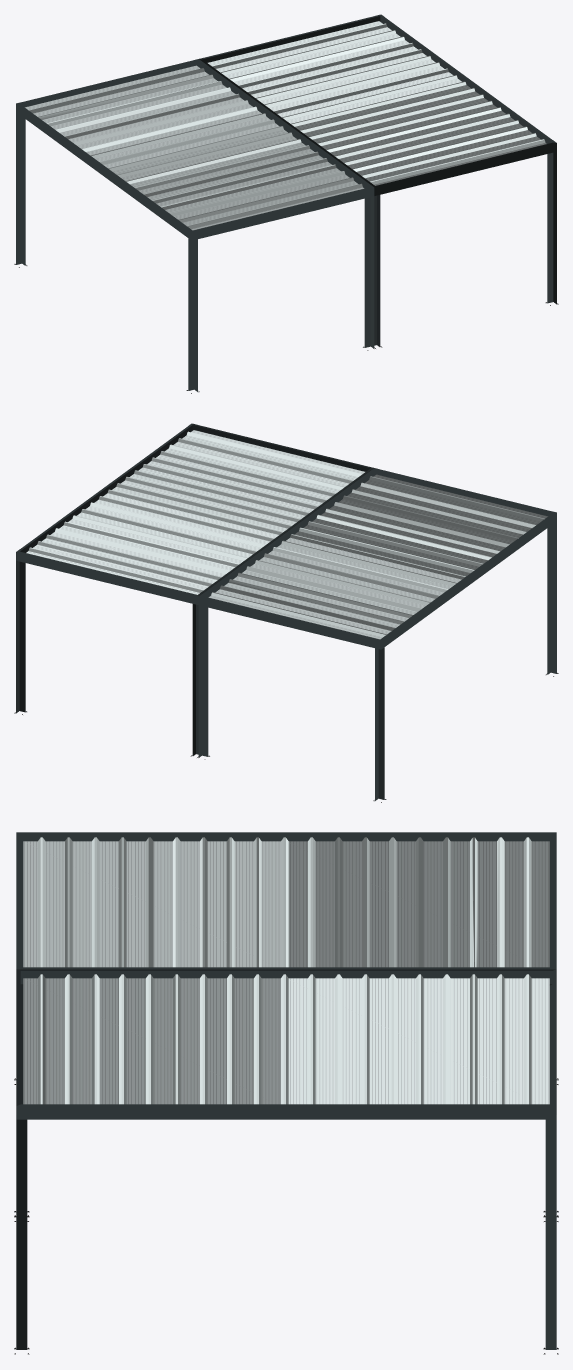
The picture shows the model from 3 angles, top to bottom: view 1: azimuth 30°, elevation 25°; view 2: azimuth 150°, elevation 25°; view 3: azimuth 270°, elevation 25°; orthographic projection. The views are drawn at different scales.
Parts seen in each view (by area): view 1: priximbattable_net_abris_de_voiture_13473_carport_double_alu; view 2: priximbattable_net_abris_de_voiture_13473_carport_double_alu; view 3: priximbattable_net_abris_de_voiture_13473_carport_double_alu.
Boxes of the visible parts, left/top/right/bottom form: priximbattable_net_abris_de_voiture_13473_carport_double_alu: left=14, top=14, right=558, bottom=393; priximbattable_net_abris_de_voiture_13473_carport_double_alu: left=14, top=423, right=558, bottom=802; priximbattable_net_abris_de_voiture_13473_carport_double_alu: left=14, top=832, right=558, bottom=1354.
Bounding box in the file's own units: 604 × 254 × 504.
Materials: 1 (1 with a texture image).
